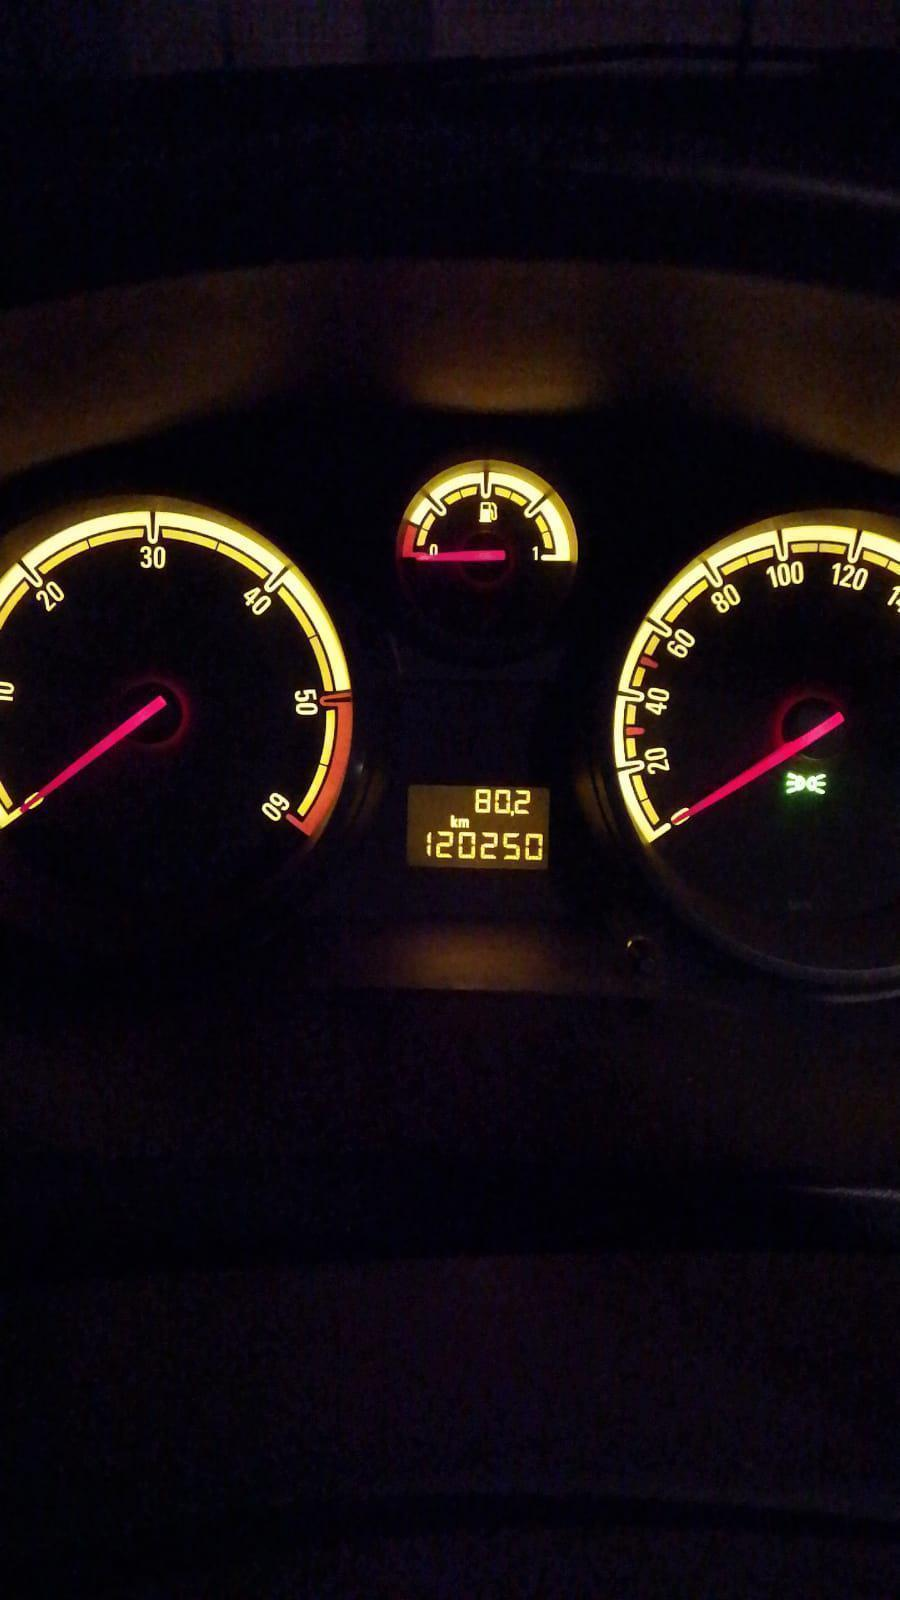,: (509, 809, 514, 816)
0: (523, 832, 544, 862), (457, 831, 476, 859), (495, 788, 511, 814)
1: (425, 831, 432, 856)
2: (479, 831, 498, 860), (435, 830, 454, 858), (514, 789, 531, 814)
5: (502, 832, 520, 860)
8: (474, 788, 491, 813)
X: (458, 816, 469, 827), (449, 814, 458, 827)
odometer: (403, 782, 552, 873)
